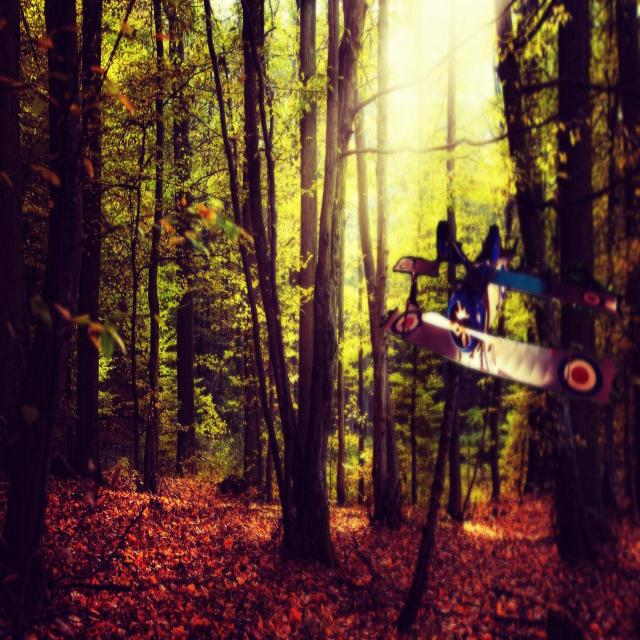airplane: (378, 218, 620, 405)
